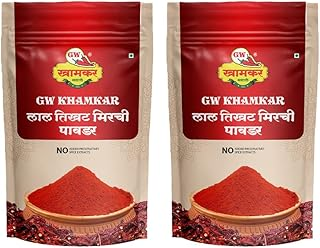Chilli Powder: (166, 2, 316, 246), (5, 3, 149, 245)
